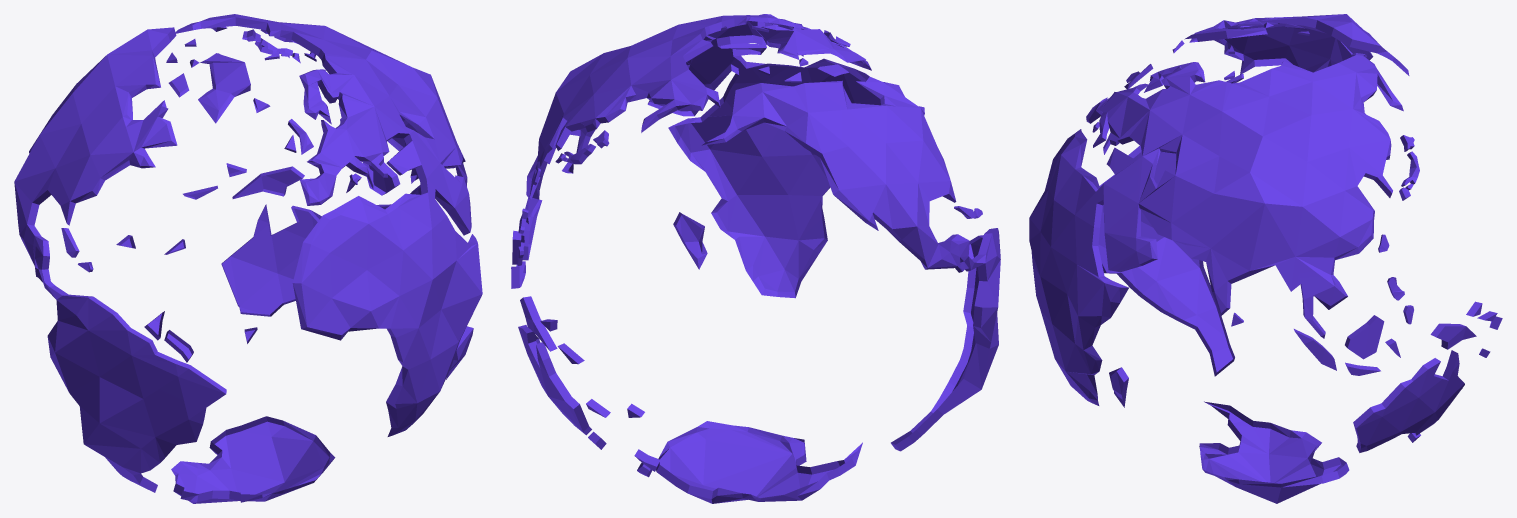
File: planet.gltf
The picture shows the model from 3 angles, left to right: view 1: azimuth 30°, elevation 25°; view 2: azimuth 150°, elevation 25°; view 3: azimuth 270°, elevation 25°; orthographic projection. The views are drawn at different scales.
Parts seen in each view (by area): view 1: land; view 2: land; view 3: land.
Boxes of the visible parts, bbox=[...] form: land: bbox=[14, 14, 482, 503]; land: bbox=[511, 14, 1000, 503]; land: bbox=[1029, 14, 1502, 503].
Size of the model in its own units: 17.33 by 17.94 by 17.25.
